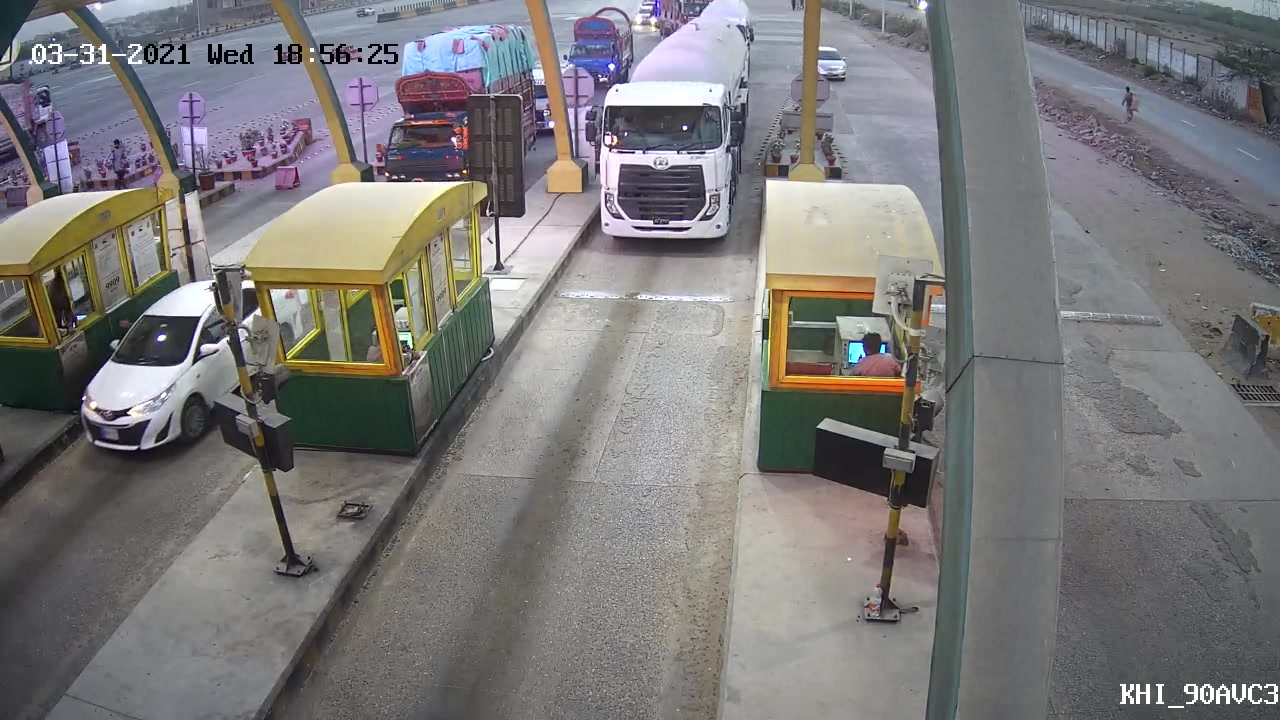F6: (599, 16, 757, 248)
